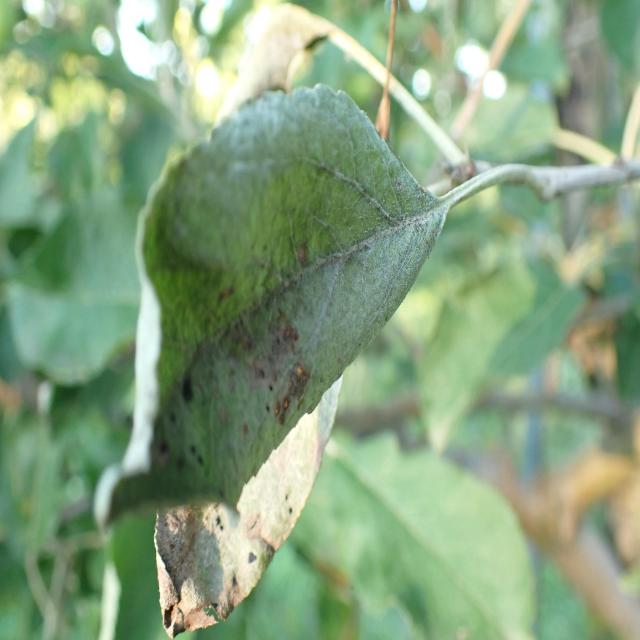Powdery_mildew: (102, 66, 462, 523), (124, 267, 356, 640)
